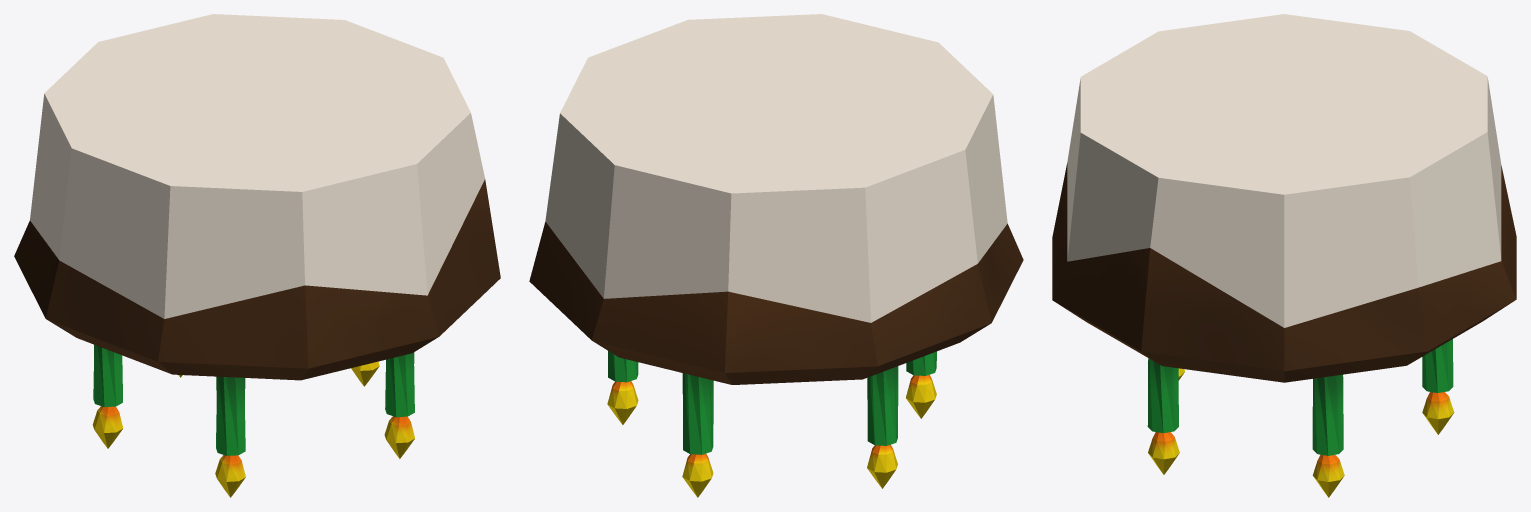
File: pie.FBX
3 renders of one model, left to right at view 1: azimuth 30°, elevation 25°; view 2: azimuth 150°, elevation 25°; view 3: azimuth 270°, elevation 25°, orthographic.
Parts seen in each view (by area): view 1: pie; view 2: pie; view 3: pie.
Boxes of the visible parts, box(x1,y1,x2,y2) form: pie: box(14, 14, 500, 497); pie: box(529, 14, 1023, 497); pie: box(1052, 14, 1516, 497).
Size of the model in its own units: 24.7 by 23.49 by 18.51.
